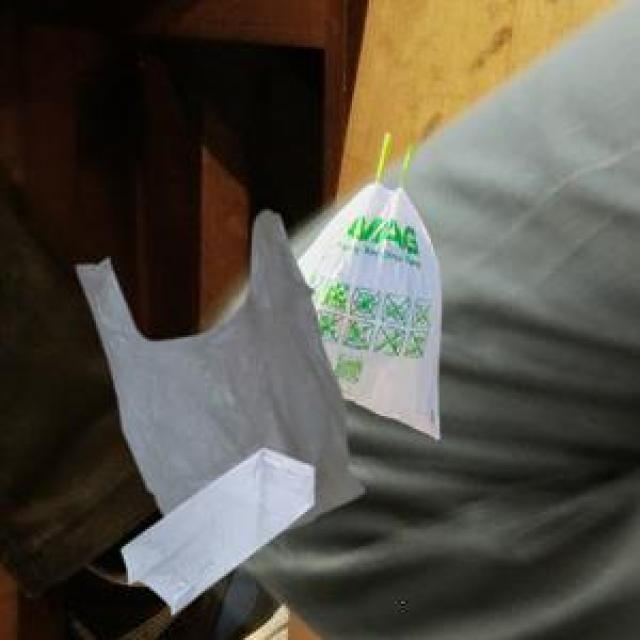plastic: (56, 108, 480, 623)
